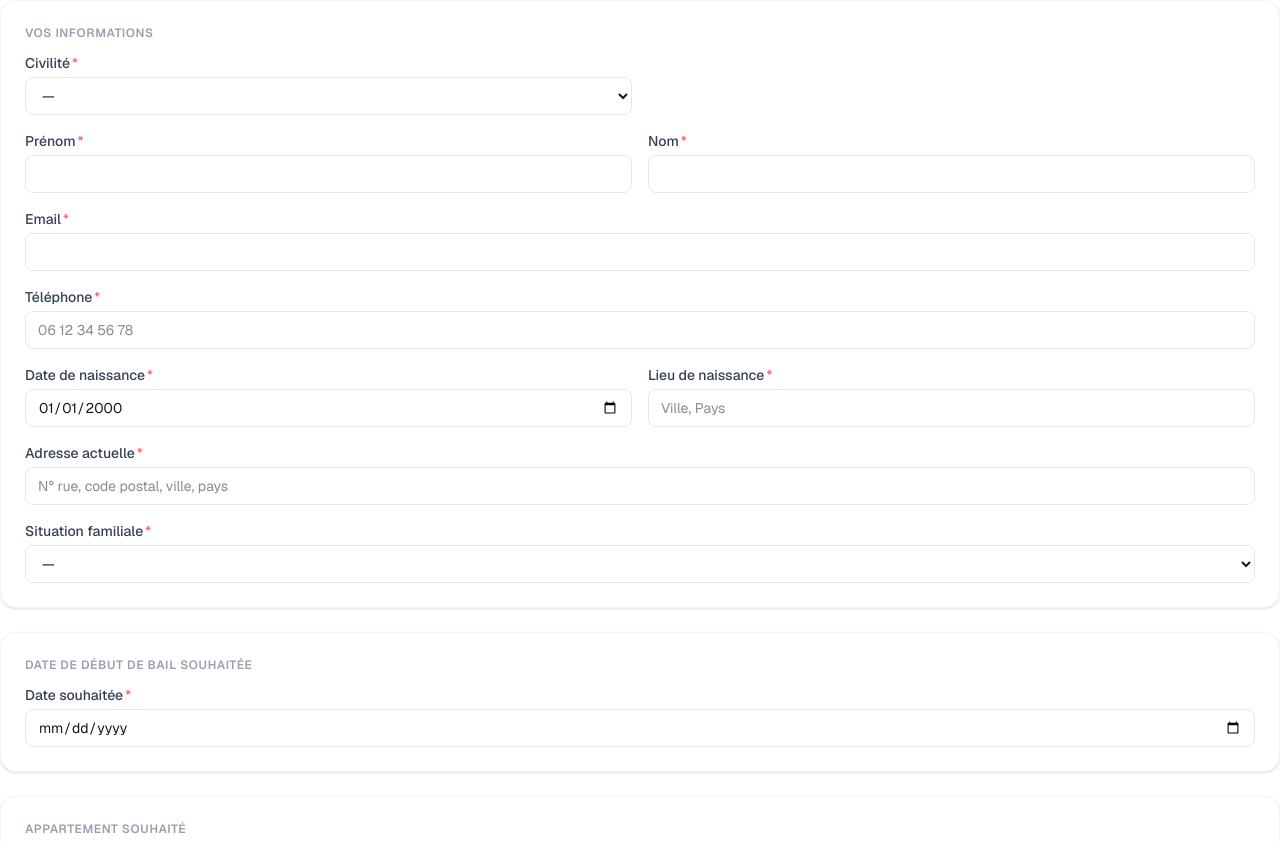
CandidateForm — validation email/téléphone › affiche une erreur pour un téléphone invalide au blur
Type "123" into the field with placeholder "06 12 34 56 78".
click(640, 330); type("123")  # box [25,311,1255,349]
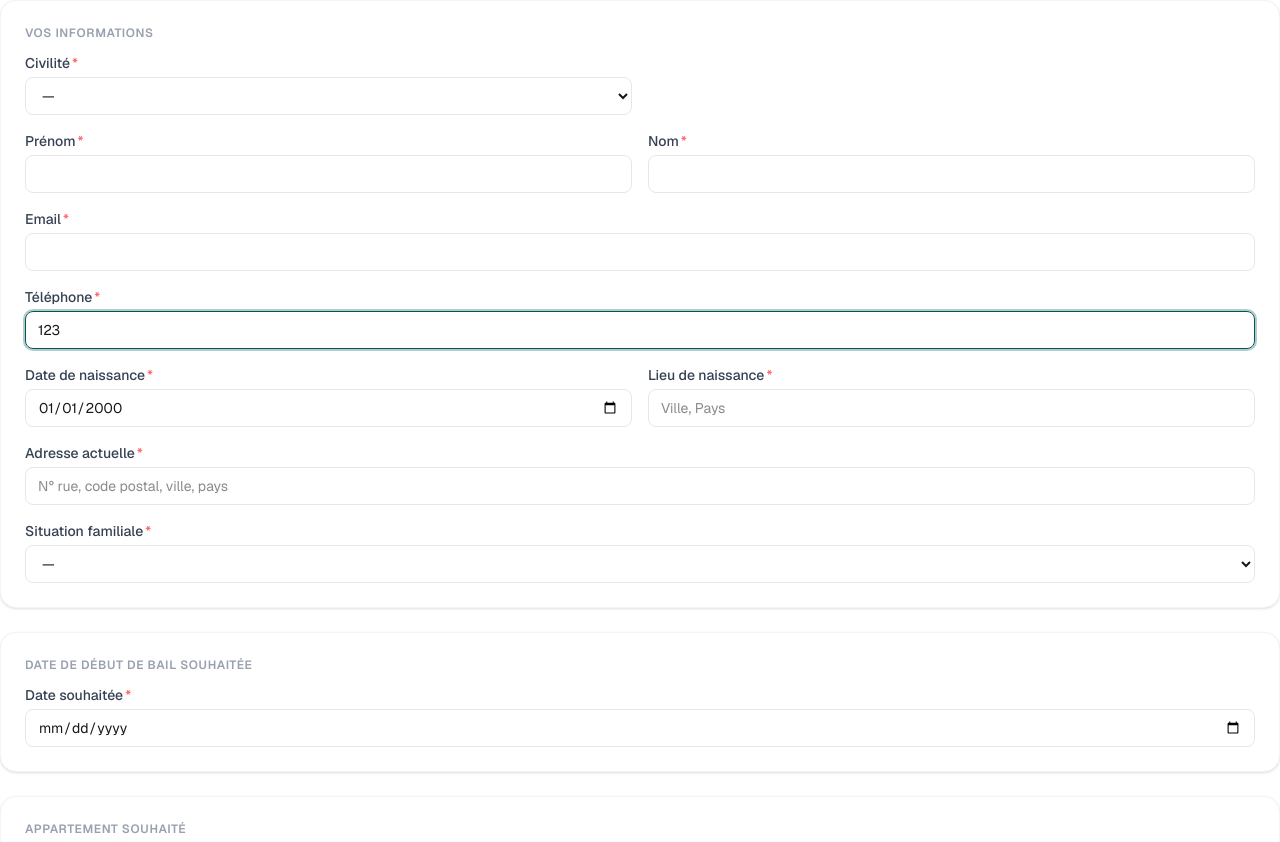
Press Tab
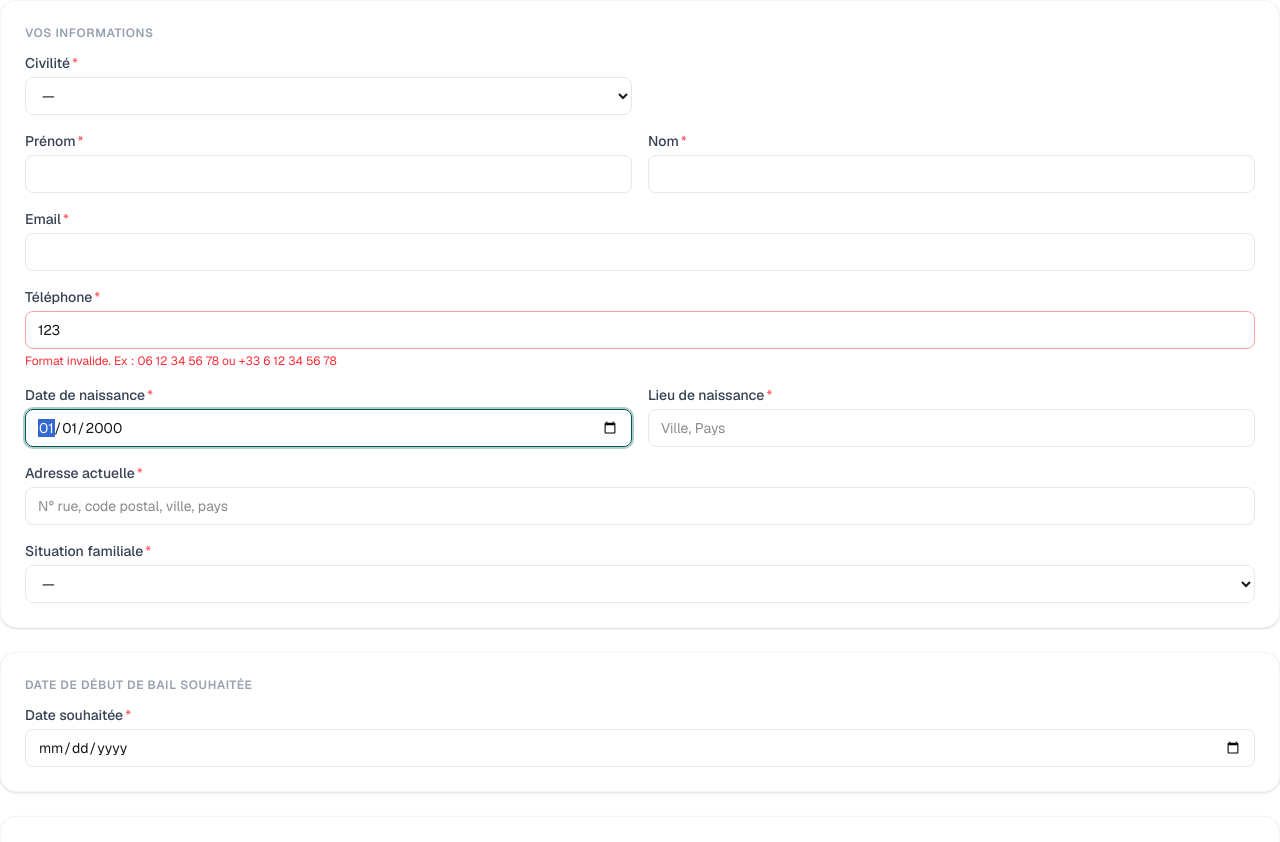
Expected: the text "Format invalide. Ex : 06 12 34 56 78 ou +33 6 12 34 56 78" is shown, [25,353,337,369]
